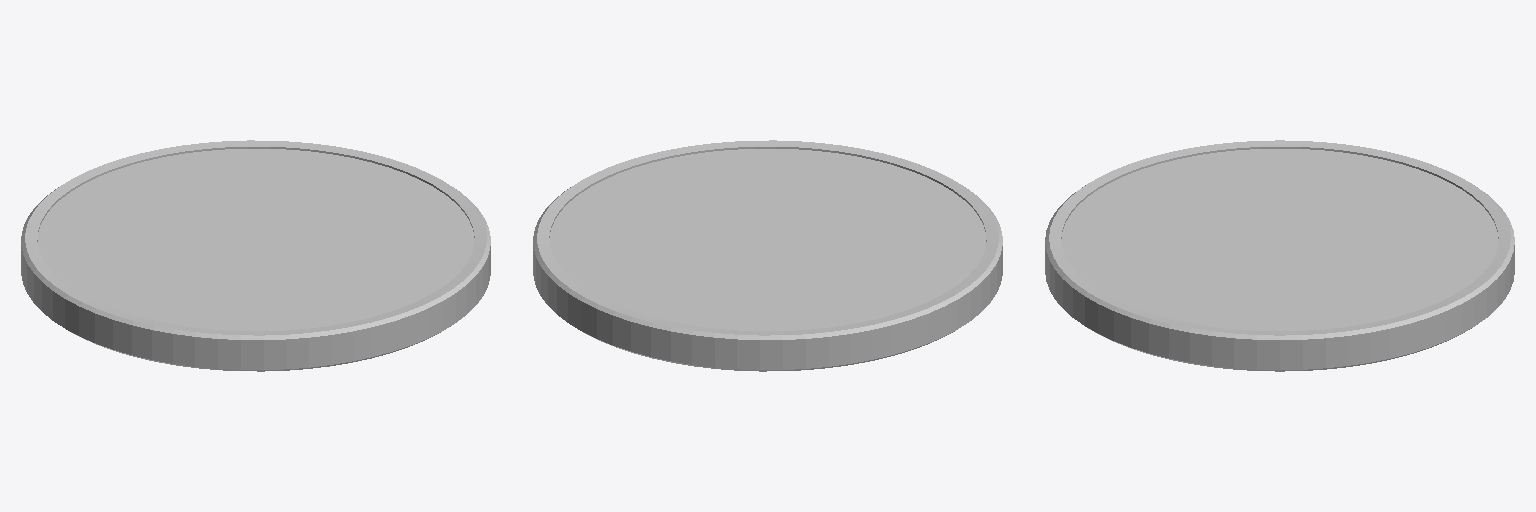
Rendered from gold.obj.
3 renders of one model, left to right at view 1: azimuth 30°, elevation 25°; view 2: azimuth 150°, elevation 25°; view 3: azimuth 270°, elevation 25°, orthographic.
Parts seen in each view (by area): view 1: TyveKrone; view 2: TyveKrone; view 3: TyveKrone.
Boxes of the visible parts, <box> form: TyveKrone: <box>21,140,490,371</box>; TyveKrone: <box>533,140,1002,371</box>; TyveKrone: <box>1045,140,1514,371</box>.
Bounding box in the file's own units: 2.78 × 0.2346 × 2.78.